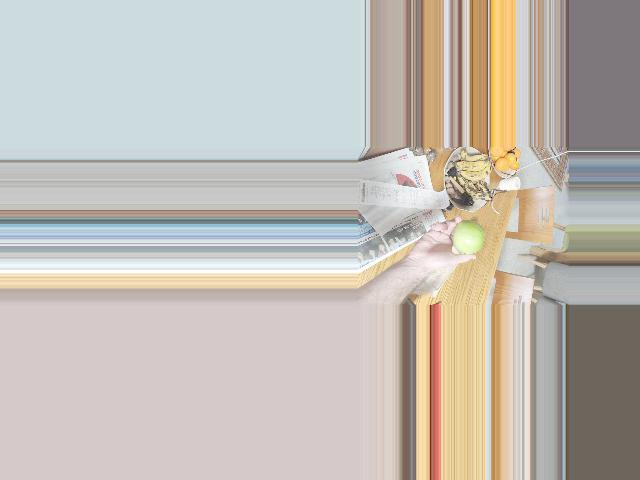apple: (452, 220, 486, 252)
